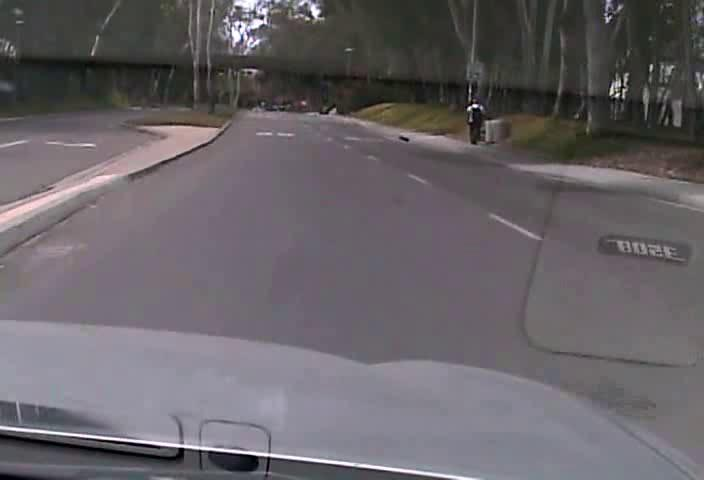speedLimitUrdbl: (465, 60, 482, 82)
